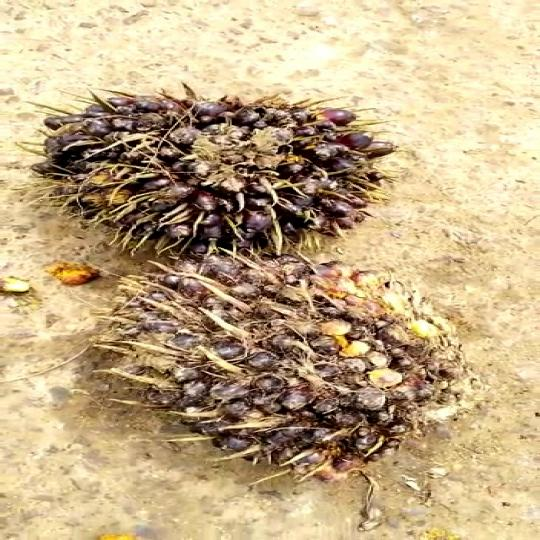mentah: (78, 242, 473, 466), (38, 83, 407, 274)
